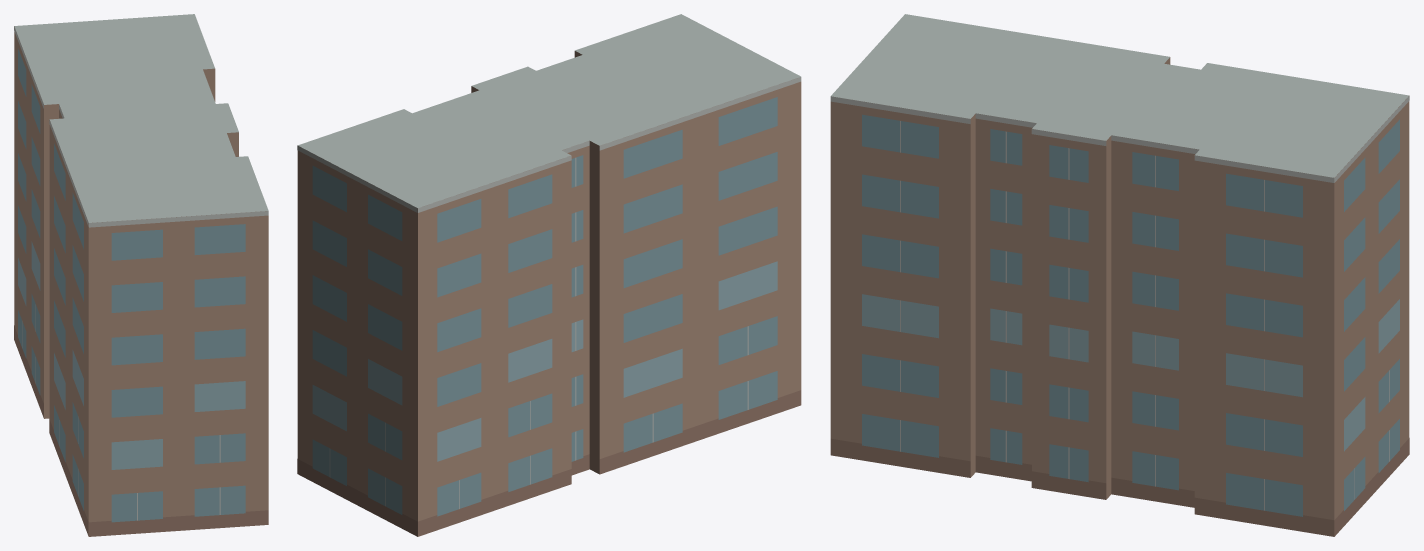
The model's file is survey-upis-32532279.glb.
3 views of the same model, side by side, from view 1: azimuth 30°, elevation 25°; view 2: azimuth 150°, elevation 25°; view 3: azimuth 270°, elevation 25° (orthographic). The views are drawn at different scales.
Parts seen in each view (by area): view 1: survey-upis-32532279.tmp; view 2: survey-upis-32532279.tmp; view 3: survey-upis-32532279.tmp.
Part boxes in pixels (left/top/right/bottom): survey-upis-32532279.tmp: left=14, top=14, right=268, bottom=536; survey-upis-32532279.tmp: left=297, top=14, right=801, bottom=536; survey-upis-32532279.tmp: left=830, top=14, right=1409, bottom=536.
Bounding box in the file's own units: 16.26 × 16.6 × 24.27.
